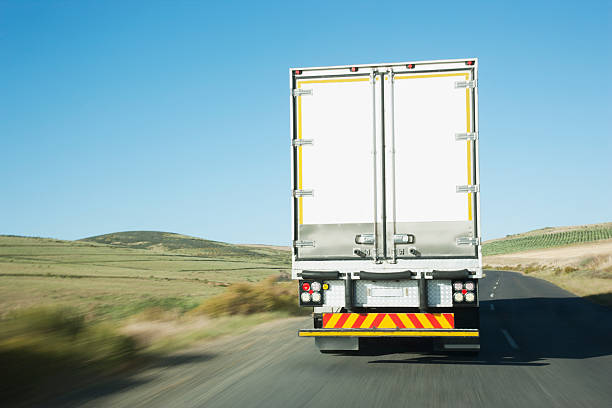Semi: (287, 57, 484, 359)
